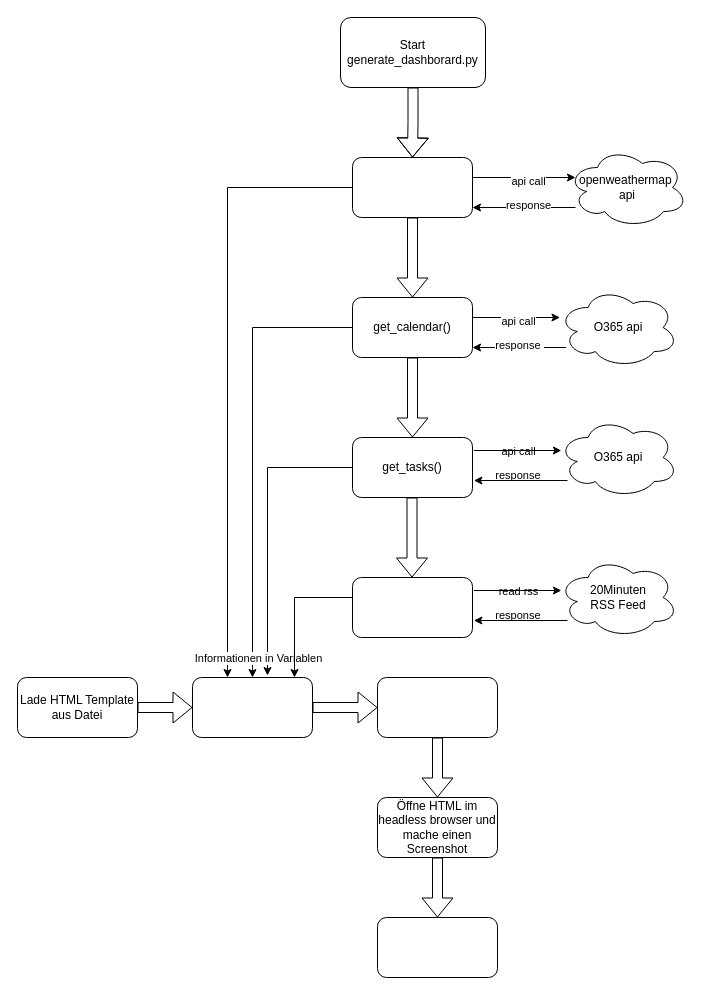
The diagram is 705 pixels wide and 995 high, and some of its shapes have lost their labels. Here are the shapes that lost their labels. From the top down, the centre of each, then its label:
(412,187): get_weather(city)
(412,607): get_news())
(252,707): Ersetze Daten im Template durch Daten aus Variablen
(437,707): Speichere Dashboard als HTML Datei
(437,947): Schreibe Screenshot auf Inky Display
